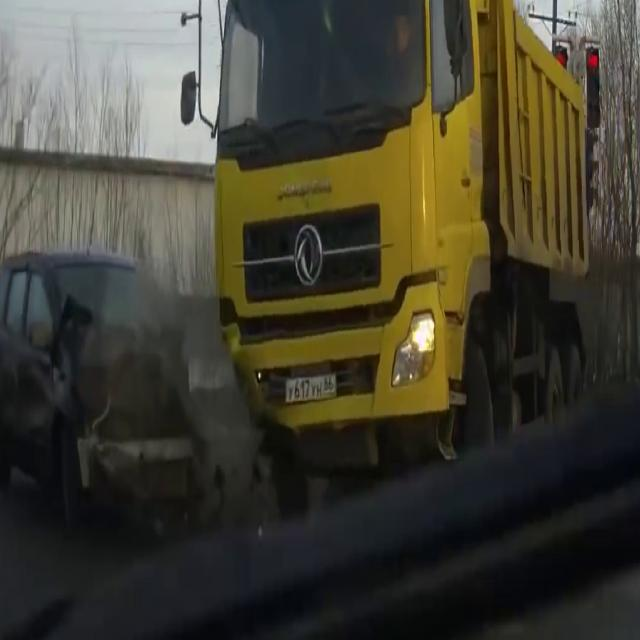accident: (83, 215, 376, 566)
